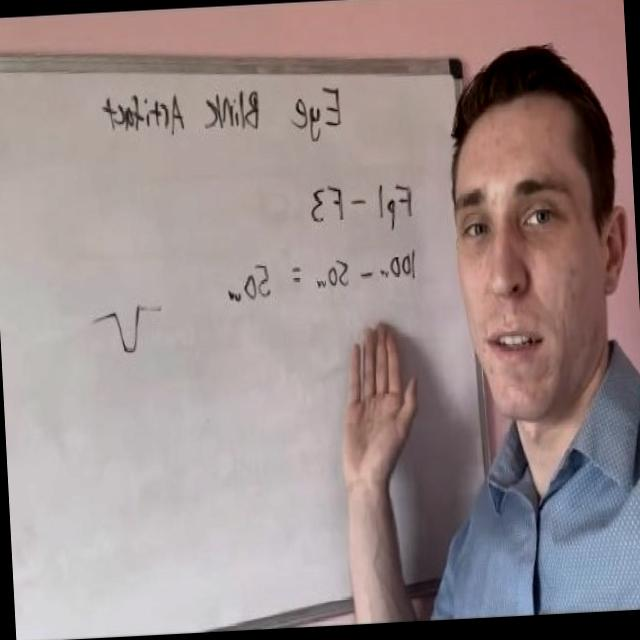Instructor: (448, 36, 638, 612)
White-board: (0, 66, 490, 640)
